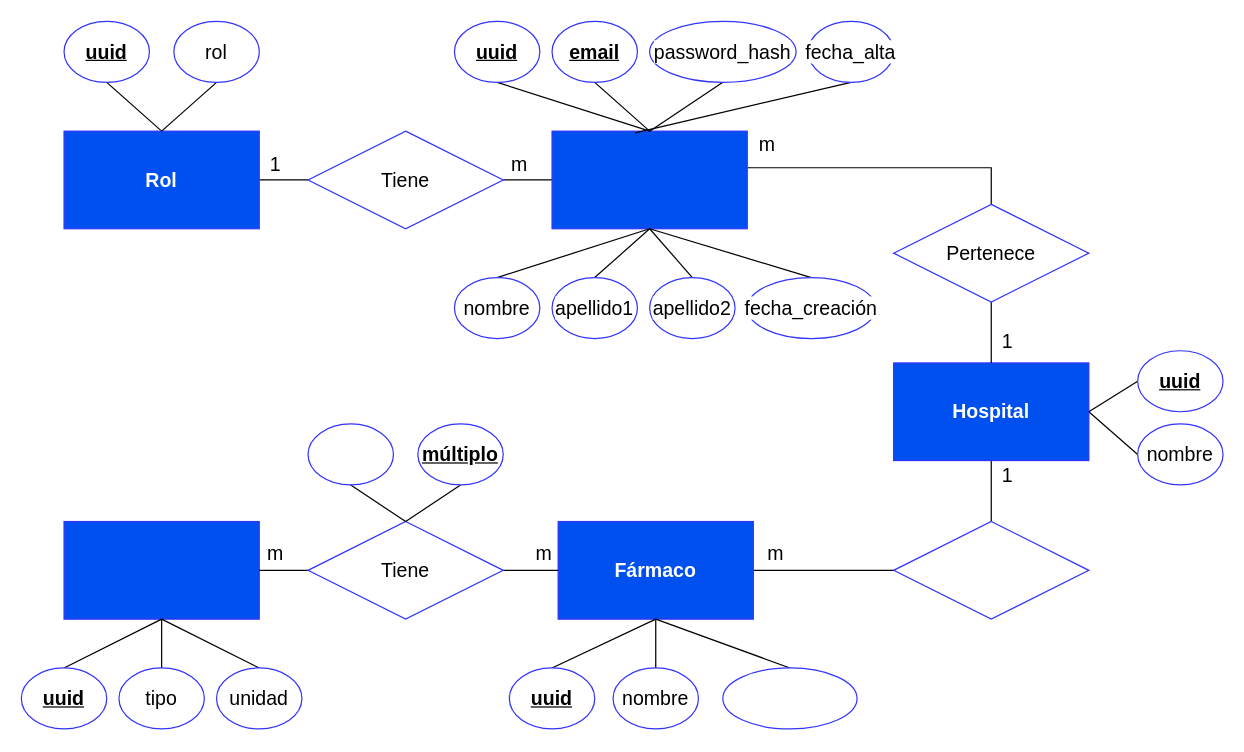
Some shapes in this 1244 by 752 pixel diagram are drawn without their labels. The centre of each missing label's shape, as x and y in pixels:
"Característica" belongs at (161,569).
"dosis_maxima" belongs at (789,698).
"Posee" belongs at (990,569).
"Usuario" belongs at (649,179).
"valor" belongs at (350,454).
